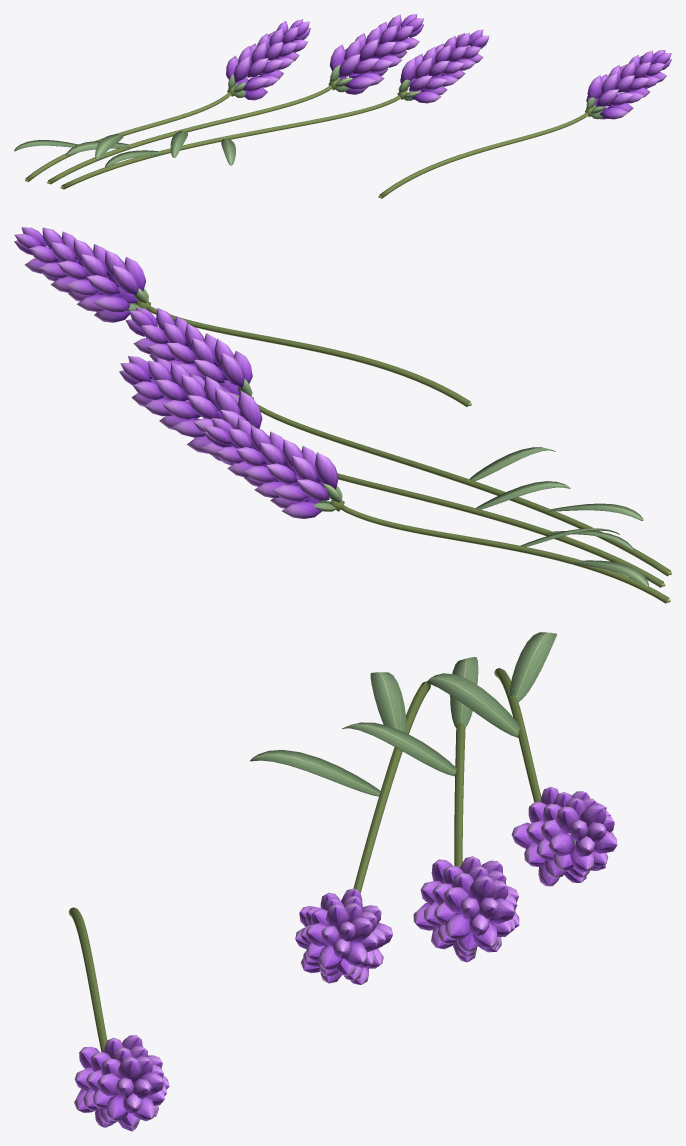
Rendered from NP_Lavender_Harvest.fbx.
3 views of the same model, one above another, from view 1: azimuth 30°, elevation 25°; view 2: azimuth 150°, elevation 25°; view 3: azimuth 270°, elevation 25° (orthographic). The views are drawn at different scales.
Visible parts, largest first — view 1: NP_Lavender_Harvest; view 2: NP_Lavender_Harvest; view 3: NP_Lavender_Harvest.
Boxes of the visible parts, x1=… form: NP_Lavender_Harvest: x1=14, y1=14, x2=671, y2=198; NP_Lavender_Harvest: x1=14, y1=227, x2=671, y2=603; NP_Lavender_Harvest: x1=68, y1=632, x2=617, y2=1131.
Bounding box in the file's own units: 128 × 17.92 × 54.79.
1 material, 1 textured.
